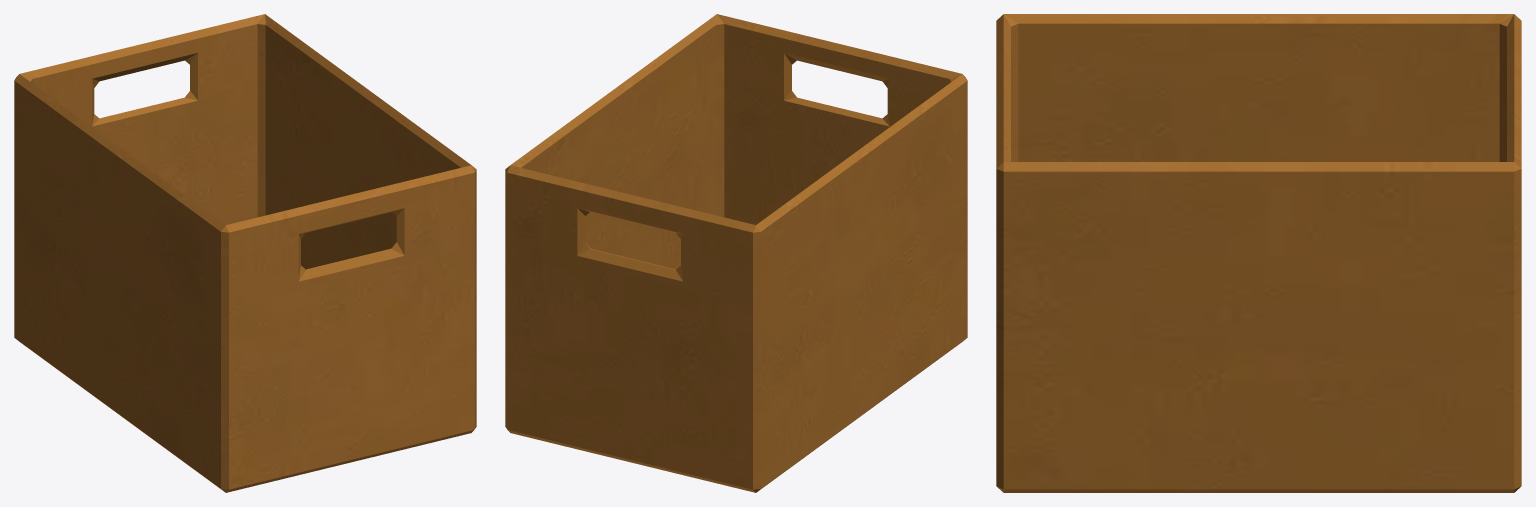
The model's file is strProp_30.glb.
3 renders of one model, left to right at view 1: azimuth 30°, elevation 25°; view 2: azimuth 150°, elevation 25°; view 3: azimuth 270°, elevation 25°, orthographic. The views are drawn at different scales.
Visible parts, largest first — view 1: geometry_0; view 2: geometry_0; view 3: geometry_0.
Part boxes in pixels (x1,y1,x2,y2): geometry_0: (14, 14, 476, 492); geometry_0: (505, 14, 967, 492); geometry_0: (996, 14, 1521, 492).
Bounding box in the file's own units: 0.4 × 0.4 × 0.5753.
1 material, 1 textured.
